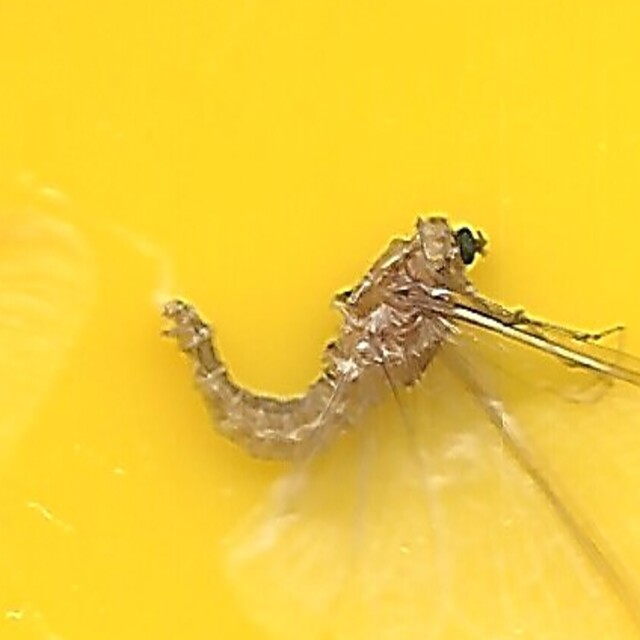Ephemeroptera: (151, 196, 489, 444)
